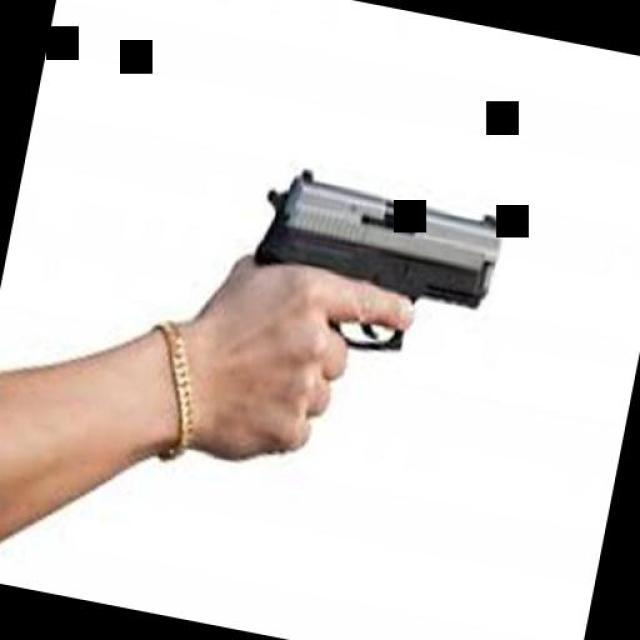gun: (194, 150, 508, 489)
